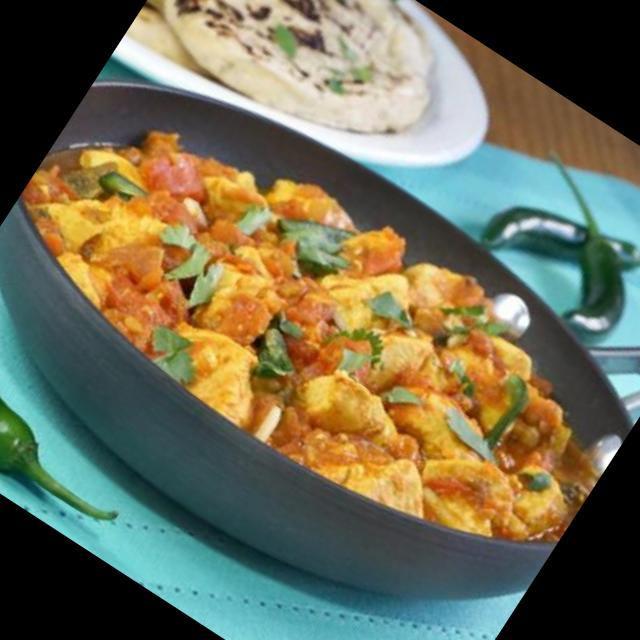chicken: (39, 86, 618, 596)
